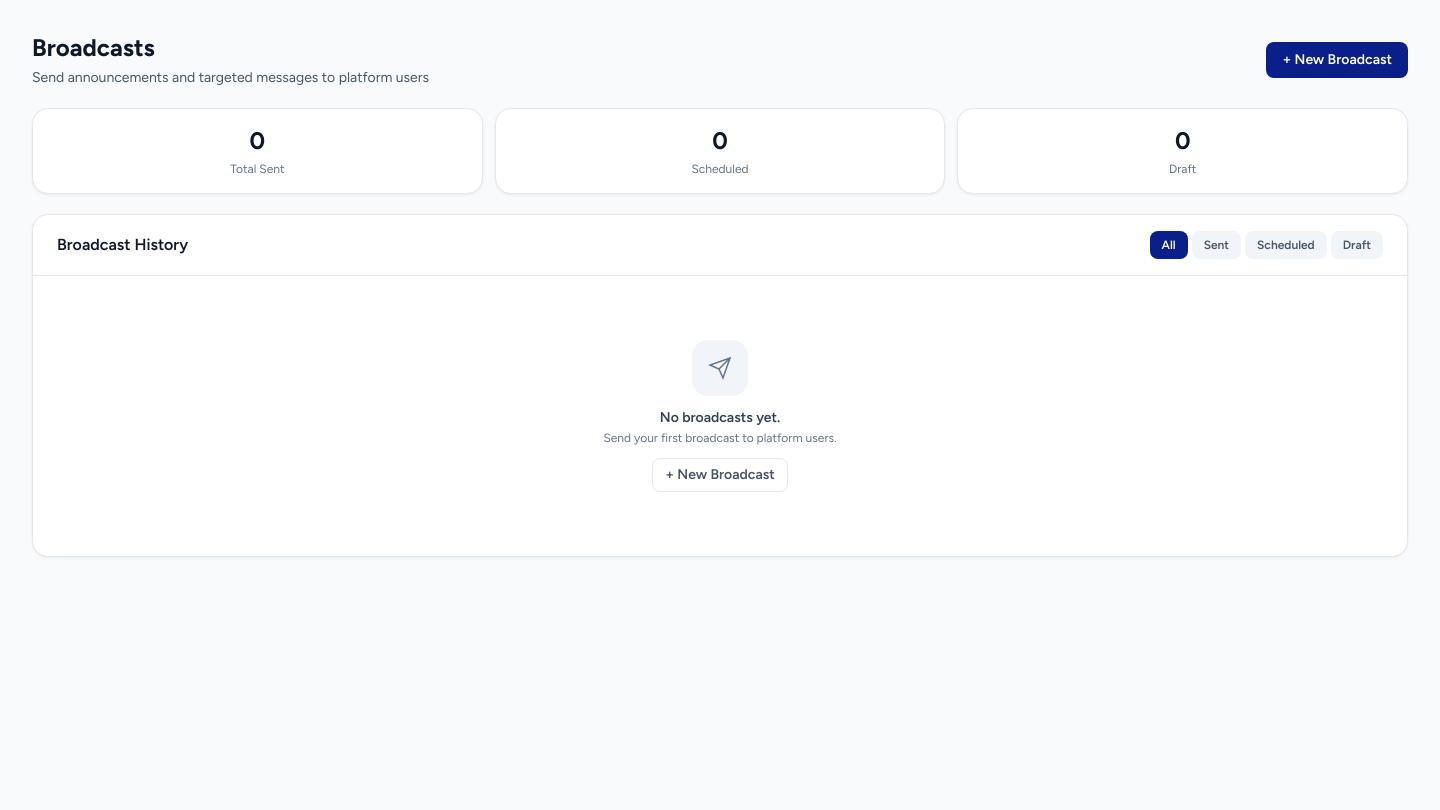
Test: BroadcastsPage audit fixes › F2: has Scheduled tab, Draft stat, and schedule input + button
The image size is (1440, 810).
Expected: the button "Scheduled" is shown, top-left (1245, 231), bottom-right (1327, 259)
Step 1. Click the 1st button "+ New Broadcast" → [1337, 60], box top-left (1266, 42), bottom-right (1408, 78)
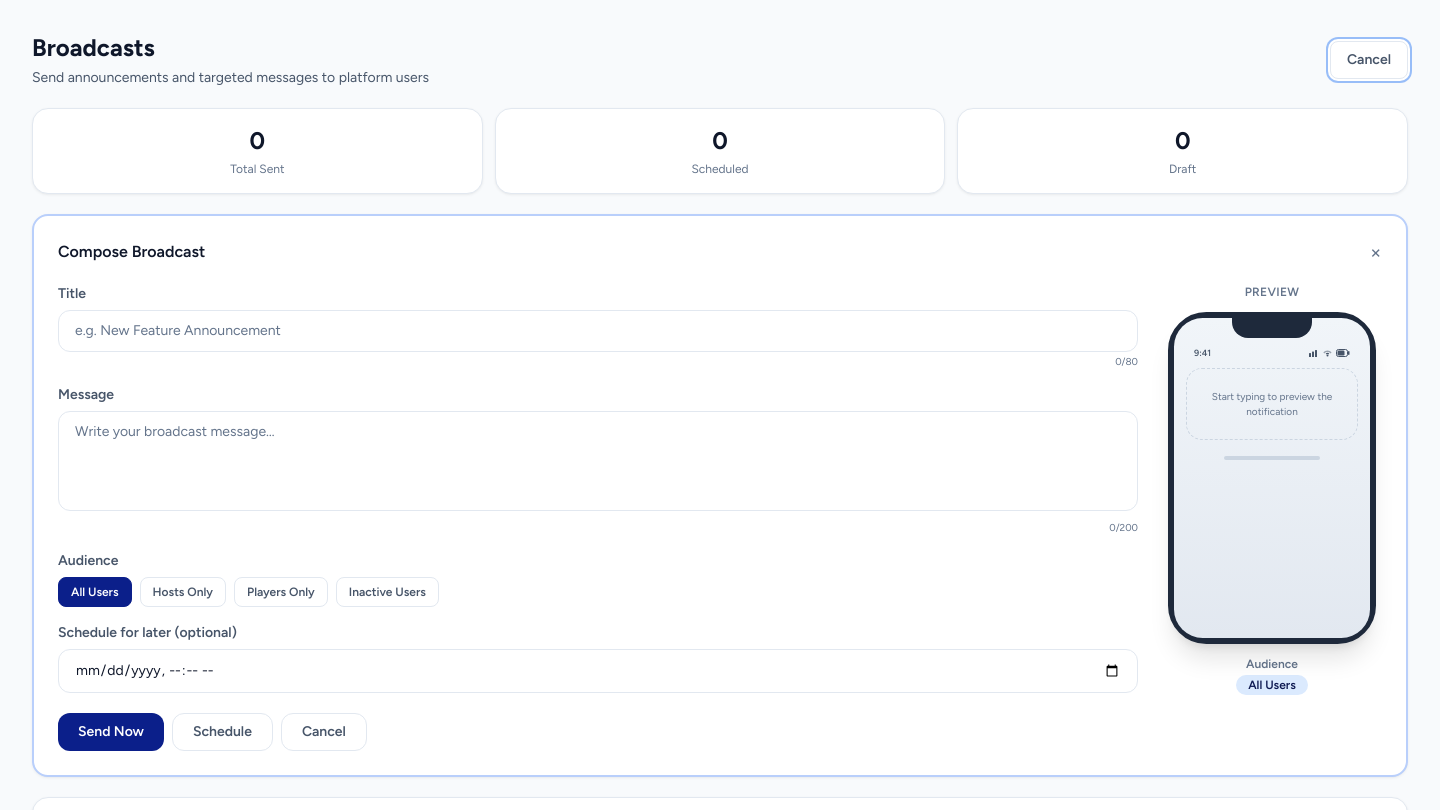
Result: the text "Schedule for later (optional)" is shown at top-left (58, 624), bottom-right (237, 641)
Result: the button "Schedule" is shown at top-left (172, 713), bottom-right (273, 751)
